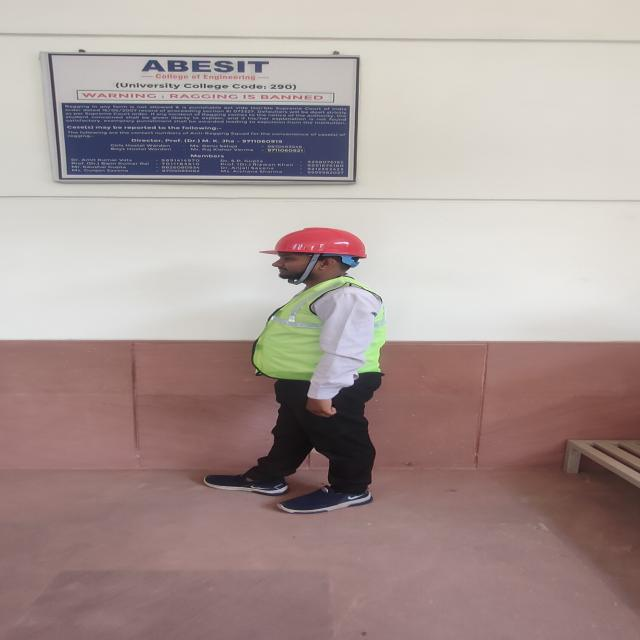safe: (252, 227, 386, 514)
